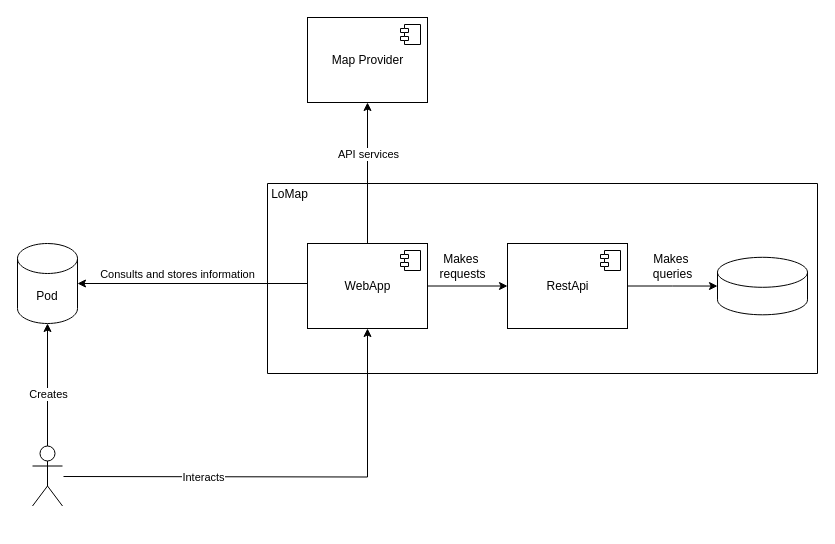
Image size: 835x544. Some labels were removed from this diagram. The box of each missing label's shape, as (x1, y1, x2, y2) in pixels:
Database: (716, 256, 808, 315)
User: (32, 445, 62, 506)
